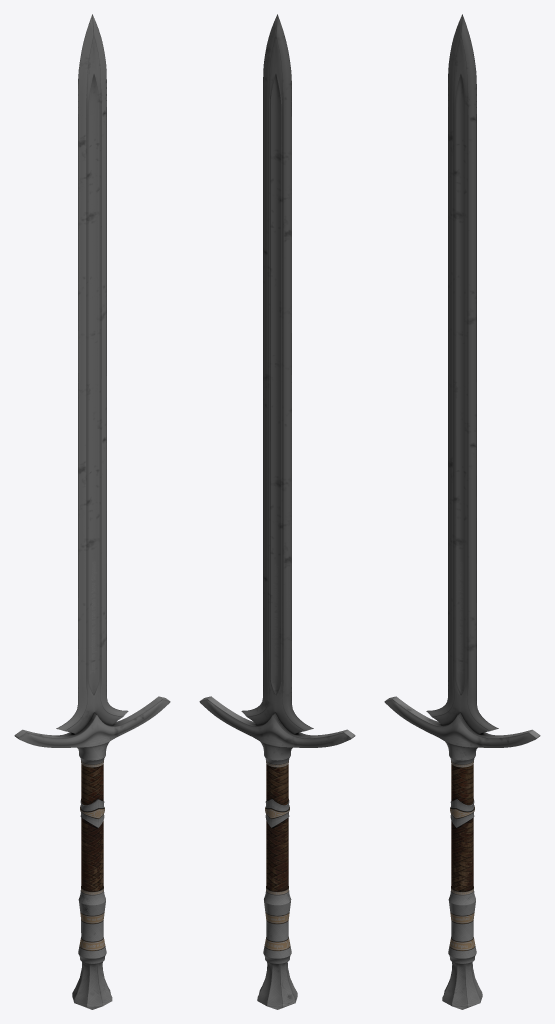
Rendered from Sword.obj.
The picture shows the model from 3 angles, left to right: view 1: azimuth 30°, elevation 25°; view 2: azimuth 150°, elevation 25°; view 3: azimuth 330°, elevation 25°; orthographic projection.
Parts seen in each view (by area): view 1: Blade_Plane.040, Guards_Plane.041, Wrap_ND_—_Geo_Lift.024, PommelFirst_Circle.004, Pommel_Circle.003, GuardsEnd_ND_—_Geo_Lift.069, Ring_ND_—_Recon_Poly.042; view 2: Blade_Plane.040, Guards_Plane.041, Wrap_ND_—_Geo_Lift.024, PommelFirst_Circle.004, Pommel_Circle.003, GuardsEnd_ND_—_Geo_Lift.069, Ring_ND_—_Recon_Poly.042; view 3: Blade_Plane.040, Guards_Plane.041, Wrap_ND_—_Geo_Lift.024, PommelFirst_Circle.004, Pommel_Circle.003, GuardsEnd_ND_—_Geo_Lift.069, Ring_ND_—_Recon_Poly.042.
Part boxes in pixels (x1,y1,x2,y2): Blade_Plane.040: [56, 14, 128, 734]; Guards_Plane.041: [14, 696, 170, 747]; Wrap_ND_—_Geo_Lift.024: [81, 764, 103, 891]; PommelFirst_Circle.004: [78, 886, 106, 963]; Pommel_Circle.003: [72, 962, 112, 1009]; GuardsEnd_ND_—_Geo_Lift.069: [77, 742, 109, 767]; Ring_ND_—_Recon_Poly.042: [80, 799, 104, 827]; Blade_Plane.040: [241, 14, 313, 734]; Guards_Plane.041: [199, 696, 355, 747]; Wrap_ND_—_Geo_Lift.024: [266, 764, 288, 891]; PommelFirst_Circle.004: [263, 886, 291, 963]; Pommel_Circle.003: [257, 962, 297, 1009]; GuardsEnd_ND_—_Geo_Lift.069: [260, 741, 292, 767]; Ring_ND_—_Recon_Poly.042: [265, 799, 289, 827]; Blade_Plane.040: [426, 14, 498, 734]; Guards_Plane.041: [384, 696, 540, 747]; Wrap_ND_—_Geo_Lift.024: [451, 764, 473, 891]; PommelFirst_Circle.004: [448, 886, 476, 963]; Pommel_Circle.003: [442, 962, 482, 1009]; GuardsEnd_ND_—_Geo_Lift.069: [445, 742, 477, 767]; Ring_ND_—_Recon_Poly.042: [450, 799, 474, 827].
Size of the model in its own units: 0.2879 by 1.8 by 0.0683.
